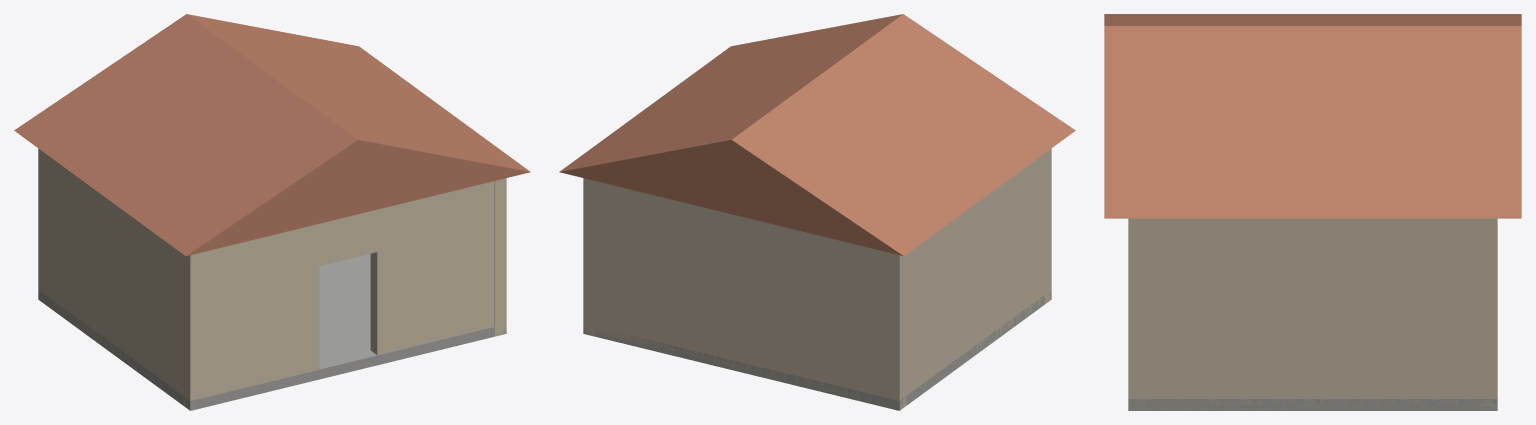
File: house_tile.glb
3 views of the same model, side by side, from view 1: azimuth 30°, elevation 25°; view 2: azimuth 150°, elevation 25°; view 3: azimuth 270°, elevation 25° (orthographic). The views are drawn at different scales.
Visible parts, largest first — view 1: roof_removable, part_2, part_4, part_5, part_0, part_6, part_3, part_1; view 2: roof_removable, part_1, part_2, part_0, part_3, part_4; view 3: roof_removable, part_3, part_0, part_1, part_5.
Boxes of the visible parts, bbox=[...] form: roof_removable: bbox=[14, 14, 530, 256]; part_2: bbox=[38, 149, 201, 409]; part_4: bbox=[183, 224, 319, 408]; part_5: bbox=[370, 181, 494, 354]; part_0: bbox=[38, 253, 506, 410]; part_6: bbox=[319, 210, 377, 265]; part_3: bbox=[494, 178, 506, 336]; part_1: bbox=[38, 148, 44, 299]; roof_removable: bbox=[559, 14, 1075, 256]; part_1: bbox=[583, 178, 906, 409]; part_2: bbox=[888, 148, 1051, 407]; part_0: bbox=[583, 290, 1051, 410]; part_3: bbox=[583, 178, 594, 336]; part_4: bbox=[1044, 149, 1051, 304]; roof_removable: bbox=[1104, 14, 1521, 218]; part_3: bbox=[1128, 218, 1497, 410]; part_0: bbox=[1128, 399, 1497, 410]; part_1: bbox=[1481, 218, 1497, 410]; part_5: bbox=[1129, 218, 1145, 410].
Size of the model in its own units: 6.55 by 4.35 by 5.65.
